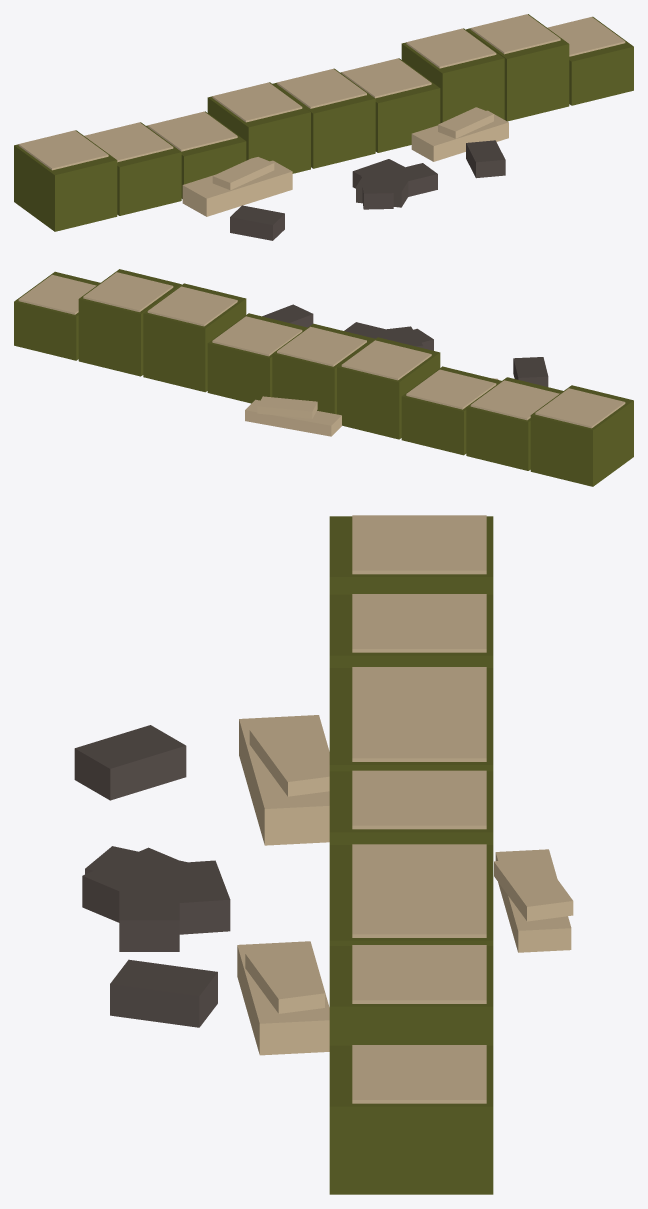
Rendered from SM_MuroHesco_v1_Geotextil_e2_MuyDanado_LOD1.fbx.
3 views of the same model, one above another, from view 1: azimuth 30°, elevation 25°; view 2: azimuth 150°, elevation 25°; view 3: azimuth 270°, elevation 25° (orthographic). The views are drawn at different scales.
Visible parts, largest first — view 1: SM_bloques.muro_hesco_estados_v6_LOD1; view 2: SM_bloques.muro_hesco_estados_v6_LOD1; view 3: SM_bloques.muro_hesco_estados_v6_LOD1.
Boxes of the visible parts, x1,y1,x2,y2 form: SM_bloques.muro_hesco_estados_v6_LOD1: (14,14,633,240); SM_bloques.muro_hesco_estados_v6_LOD1: (14,269,633,486); SM_bloques.muro_hesco_estados_v6_LOD1: (74,515,573,1194).
Bounding box in the file's own units: 9.96 × 1.08 × 3.71.
